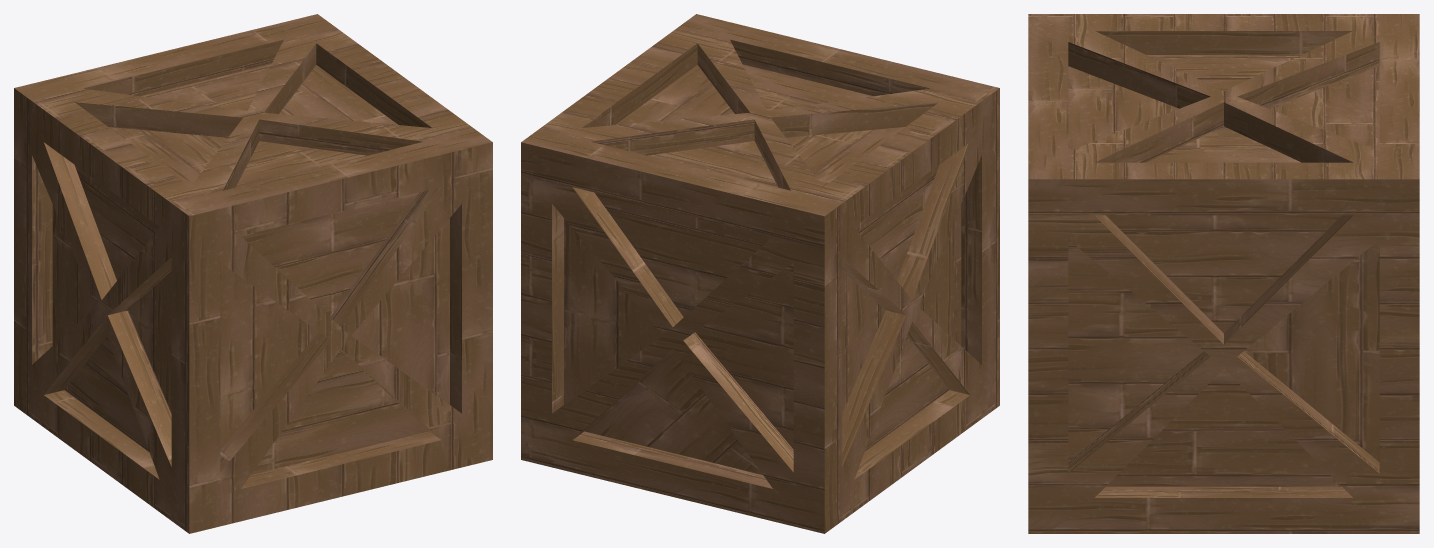
File: crate.fbx
3 views of the same model, side by side, from view 1: azimuth 30°, elevation 25°; view 2: azimuth 150°, elevation 25°; view 3: azimuth 270°, elevation 25° (orthographic). The views are drawn at different scales.
Parts seen in each view (by area): view 1: Cube; view 2: Cube; view 3: Cube.
Boxes of the visible parts, left/top/right/bottom form: Cube: left=14, top=14, right=492, bottom=533; Cube: left=521, top=14, right=999, bottom=533; Cube: left=1028, top=14, right=1419, bottom=533.
Bounding box in the file's own units: 200 × 200 × 200.
